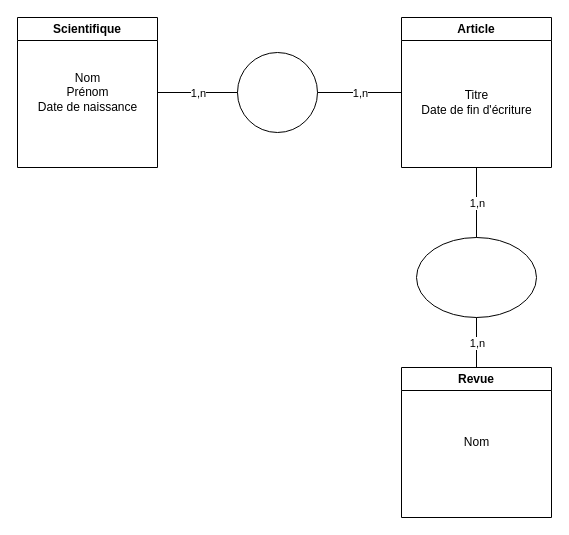
Image size: 569x535. Some labels were removed from this diagram. Each missing label, with the centre of its shape:
"Ecrire" goes at (277,92).
"Parait Date de parution" goes at (476,277).
